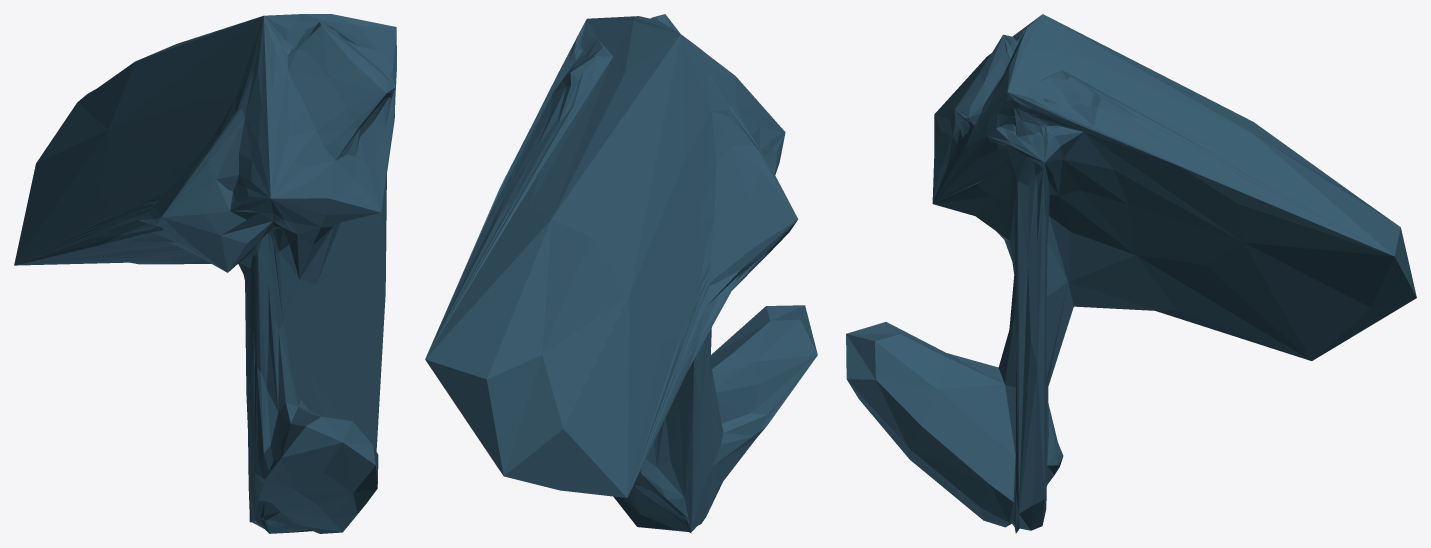
3 views of the same model, side by side, from view 1: azimuth 30°, elevation 25°; view 2: azimuth 150°, elevation 25°; view 3: azimuth 270°, elevation 25° (orthographic). The views are drawn at different scales.
Visible parts, largest first — view 1: 787_Cube.3171; view 2: 787_Cube.3171; view 3: 787_Cube.3171.
Part boxes in pixels (x1,y1,x2,y2): 787_Cube.3171: (14, 14, 396, 533); 787_Cube.3171: (425, 14, 817, 533); 787_Cube.3171: (846, 14, 1416, 533).
Size of the model in its own units: 6.28 by 13.08 by 13.66.
